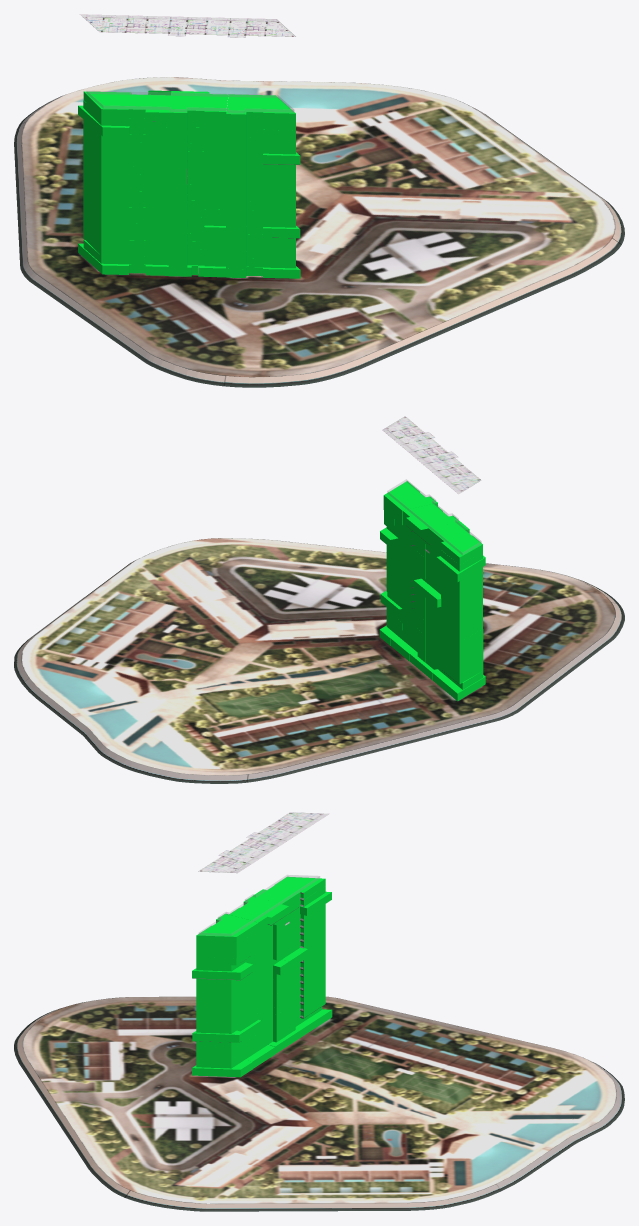
Rendered from TorreMareaBaked5.DAE.
The picture shows the model from 3 angles, top to bottom: view 1: azimuth 30°, elevation 25°; view 2: azimuth 150°, elevation 25°; view 3: azimuth 270°, elevation 25°; orthographic projection. The views are drawn at different scales.
Parts seen in each view (by area): view 1: isla, Planta10, MAR-03-N020-P-0PH5, MAR-03-N020-P-0PH3, cristales, MAR-03-N020-P-0PH2, MAR-03-N020-P-0PH1, MAR-03-N0PB-P-0GH1, MAR-03-N019-P-0PH5, MAR-03-N018-P-00A2, MAR-03-N0PB-P-0GH3, MAR-03-N006-P-00D2 (+13 smaller); view 2: isla, Planta10, MAR-03-N020-P-0PH3, MAR-03-N020-P-0PH5, MAR-03-N020-P-0PH1, MAR-03-N020-P-0PH2, MAR-03-N0PB-P-0GH1, cristales, MAR-03-N018-P-00A2; view 3: isla, Planta10, MAR-03-N020-P-0PH5, MAR-03-N020-P-0PH3, cristales, MAR-03-N020-P-0PH2, MAR-03-N020-P-0PH1, MAR-03-N0PB-P-0GH3, MAR-03-N015-P-00D2, MAR-03-N006-P-00D2.
Boxes of the visible parts, x1,y1,x2,y2 form: isla: (14, 77, 624, 387); Planta10: (80, 14, 295, 37); MAR-03-N020-P-0PH5: (226, 94, 295, 123); MAR-03-N020-P-0PH3: (168, 91, 228, 121); cristales: (86, 91, 294, 113); MAR-03-N020-P-0PH2: (128, 90, 171, 121); MAR-03-N020-P-0PH1: (83, 91, 130, 118); MAR-03-N0PB-P-0GH1: (78, 243, 145, 274); MAR-03-N019-P-0PH5: (226, 120, 295, 131); MAR-03-N018-P-00A2: (78, 105, 129, 136); MAR-03-N0PB-P-0GH3: (246, 266, 300, 278); MAR-03-N006-P-00D2: (246, 226, 300, 238); isla: (14, 538, 624, 783); Planta10: (382, 416, 481, 494); MAR-03-N020-P-0PH3: (402, 503, 459, 537); MAR-03-N020-P-0PH5: (383, 481, 437, 517); MAR-03-N020-P-0PH1: (441, 535, 482, 564); MAR-03-N020-P-0PH2: (421, 521, 471, 545); MAR-03-N0PB-P-0GH1: (432, 671, 485, 701); cristales: (387, 479, 481, 554); MAR-03-N018-P-00A2: (436, 555, 485, 581); isla: (14, 996, 624, 1211); Planta10: (198, 812, 329, 873); MAR-03-N020-P-0PH5: (196, 913, 258, 944); MAR-03-N020-P-0PH3: (229, 896, 288, 929); cristales: (198, 875, 319, 935); MAR-03-N020-P-0PH2: (252, 885, 300, 913); MAR-03-N020-P-0PH1: (275, 876, 325, 899); MAR-03-N0PB-P-0GH3: (192, 1060, 253, 1077); MAR-03-N015-P-00D2: (192, 962, 252, 979); MAR-03-N006-P-00D2: (192, 1026, 251, 1042).
Size of what is drawn, in the model's own units: 2.25 by 1.02 by 2.72.
8 materials, 5 textured.
